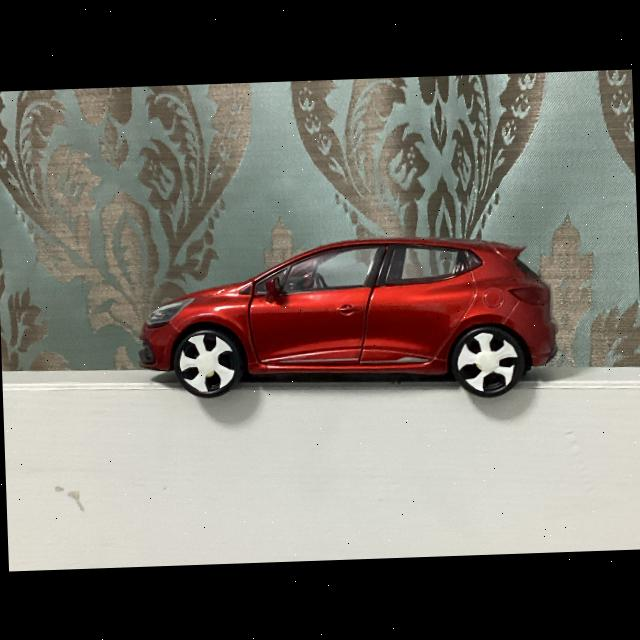Yanlis_Jant: (455, 331, 520, 394), (178, 332, 236, 394)
